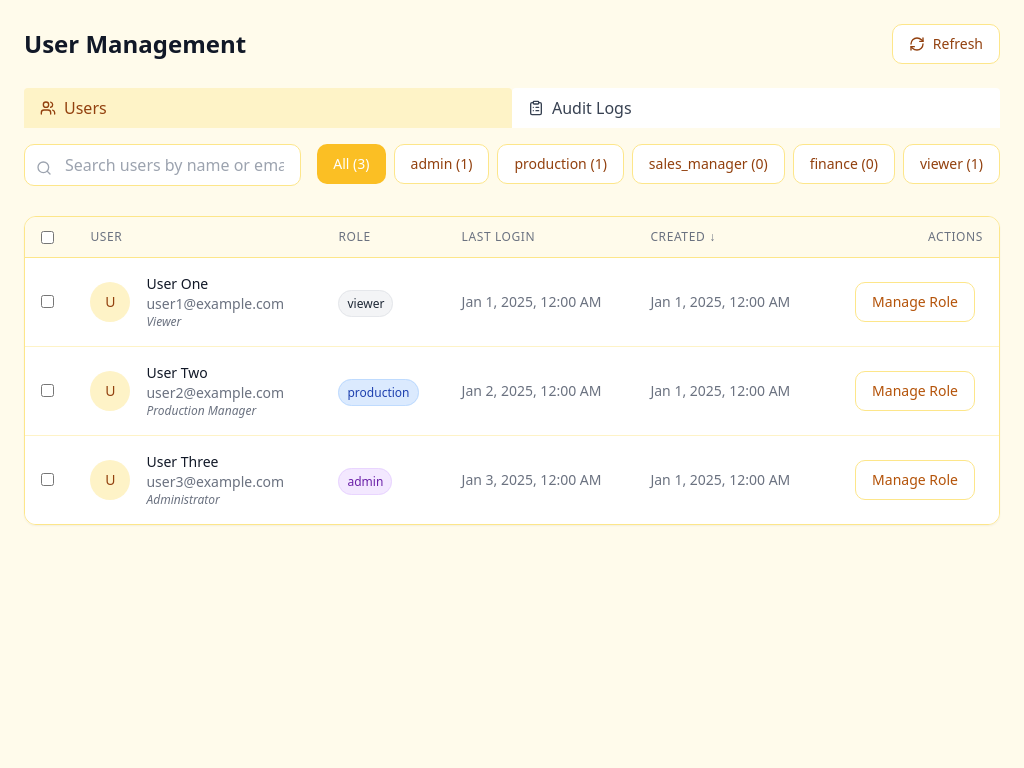
Test case: UserManagement › handles bulk user selection
Expected: the text "User One" is shown, 146,274 -> 208,293
Select first user
Click the checkbox below "User One" at coordinates (48, 302), box 41,295 -> 54,308
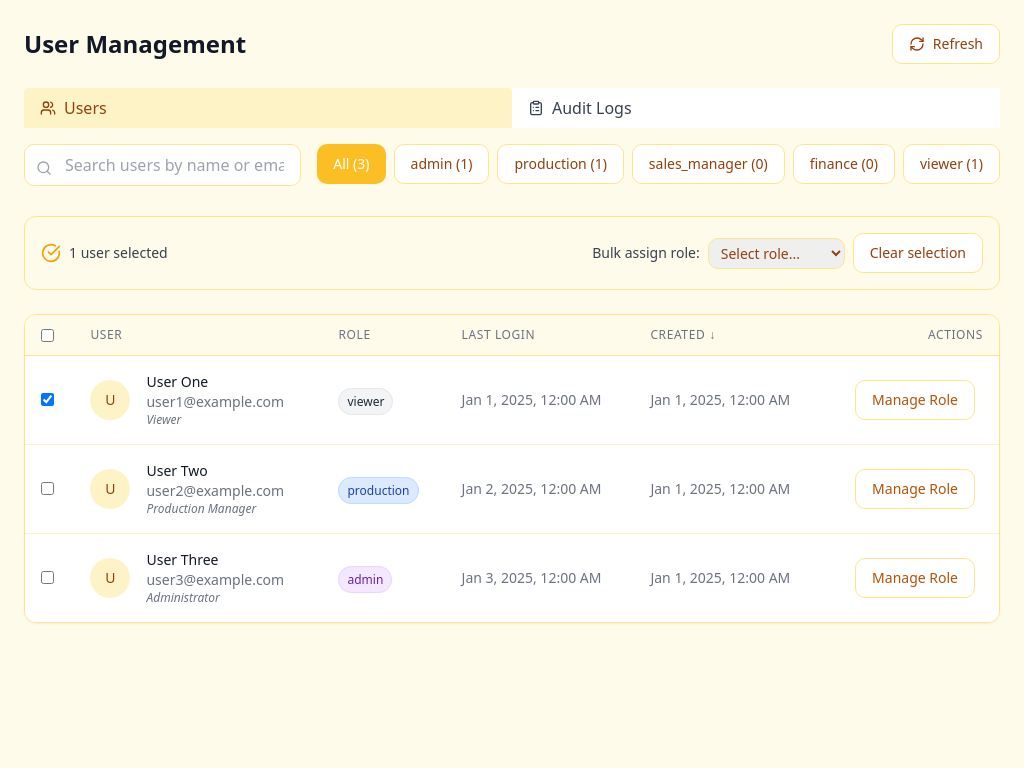
Now the text "1 user selected" is shown, box 69,243 -> 168,263
Select second user
Click the checkbox below "User Two" at coordinates (48, 488), box 41,482 -> 54,495
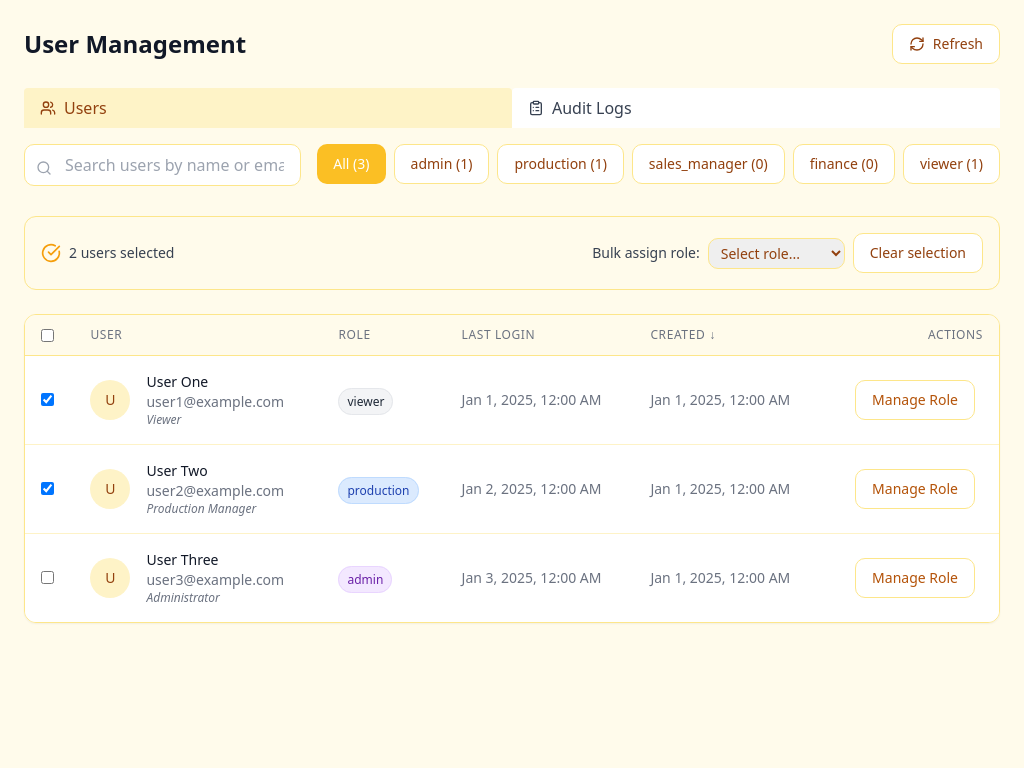
Now the text "2 users selected" is shown, box 69,243 -> 174,263
